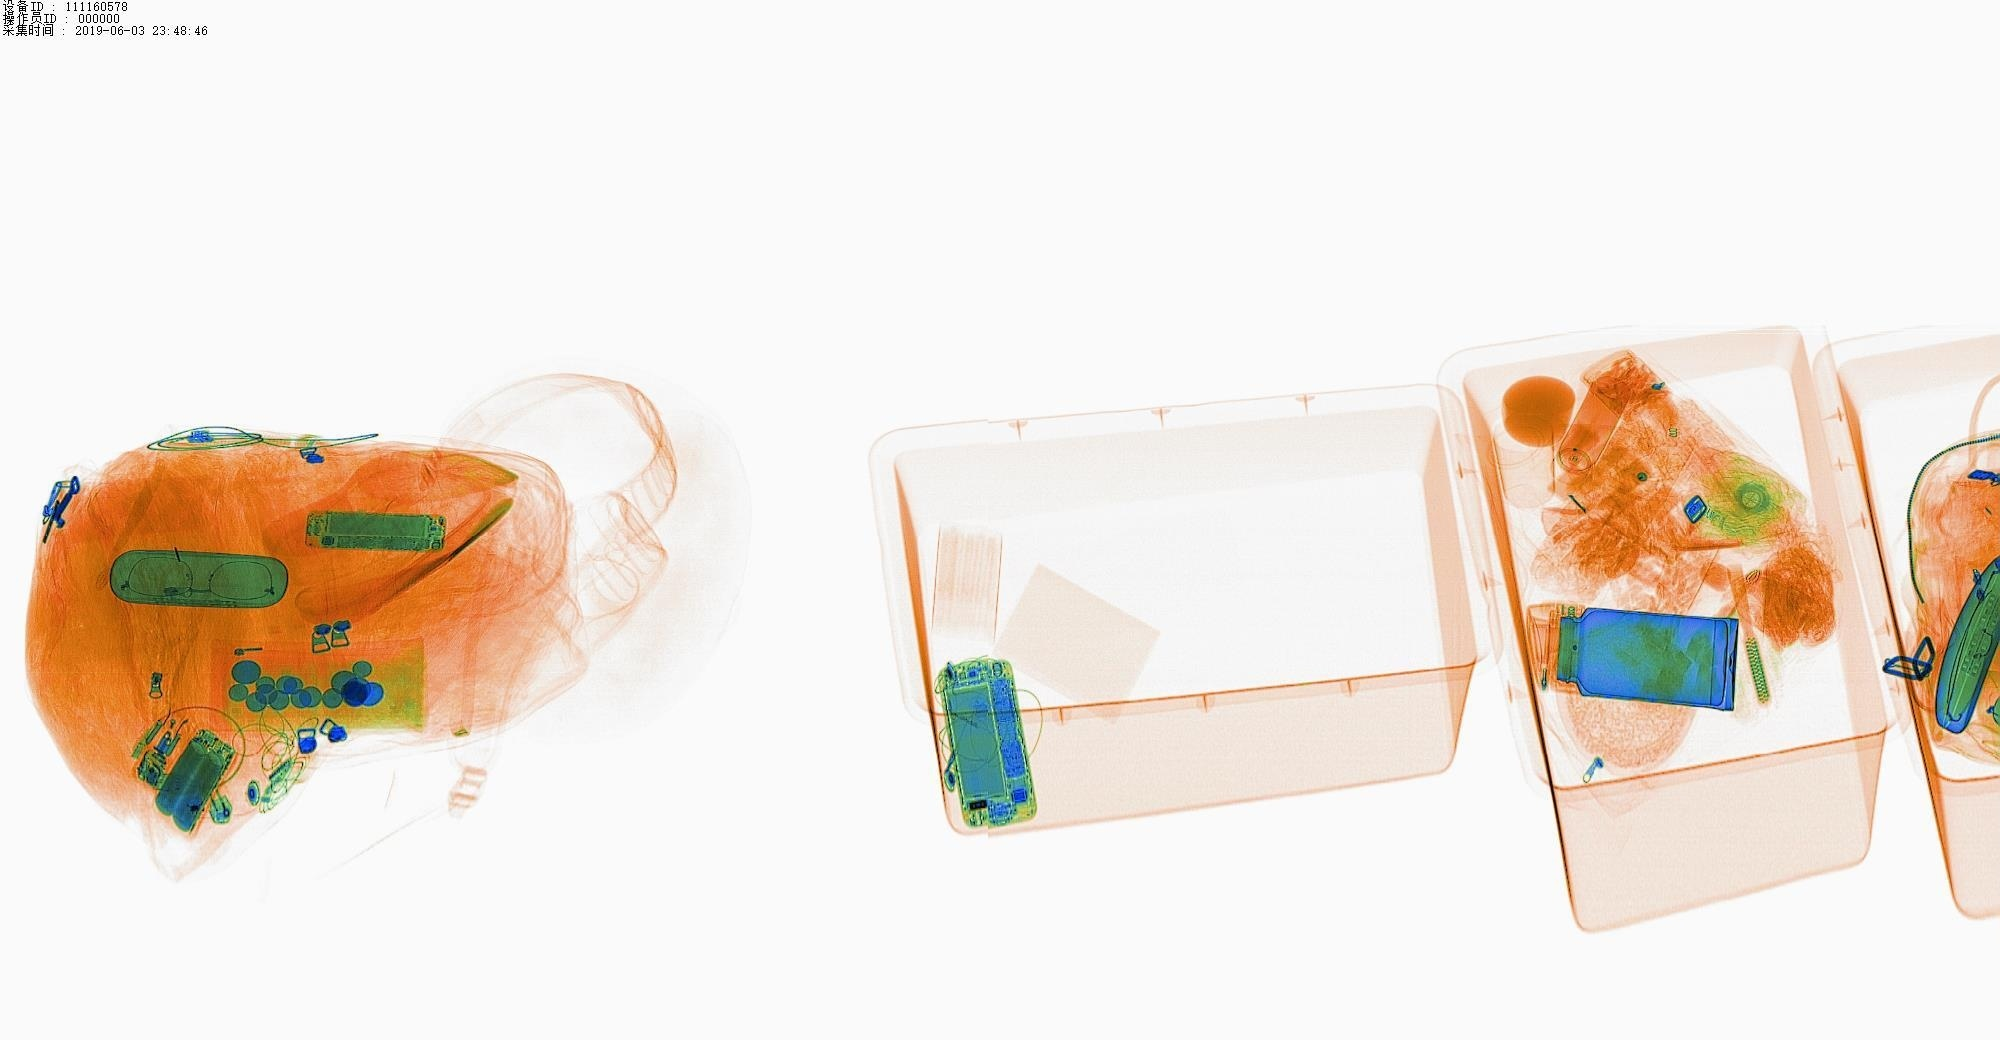NonmetallicFire: (181, 728, 265, 839)
